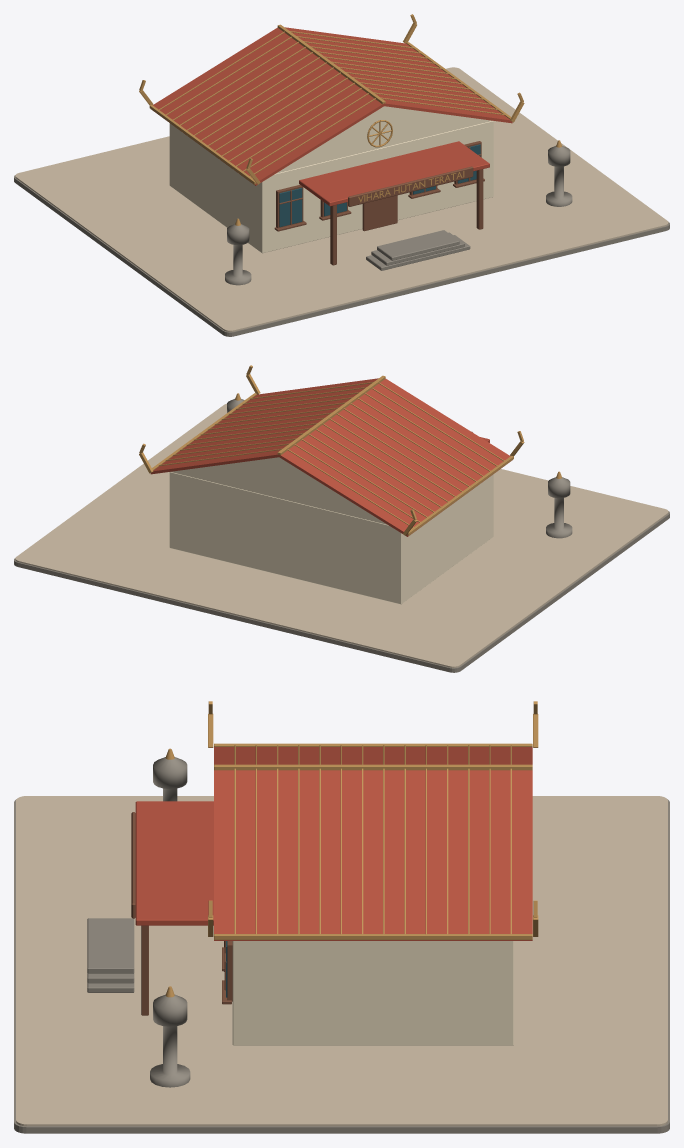
3 renders of one model, top to bottom at view 1: azimuth 30°, elevation 25°; view 2: azimuth 150°, elevation 25°; view 3: azimuth 270°, elevation 25°, orthographic. The views are drawn at different scales.
Visible parts, largest first — view 1: Monastery Garden, Meditation Hall, Front Porch, Entrance Steps, Garden Lanterns, Roof Finials; view 2: Meditation Hall, Monastery Garden, Garden Lanterns, Roof Finials; view 3: Monastery Garden, Meditation Hall, Front Porch, Garden Lanterns, Entrance Steps, Roof Finials.
Part boxes in pixels (x1,y1,x2,y2): Monastery Garden: (14,67,669,336); Meditation Hall: (149,24,512,253); Front Porch: (299,141,489,265); Entrance Steps: (366,230,470,270); Garden Lanterns: (225,140,572,285); Roof Finials: (139,14,524,184); Meditation Hall: (150,375,513,604); Monastery Garden: (14,403,669,672); Garden Lanterns: (227,393,572,538); Roof Finials: (139,365,524,535); Monastery Garden: (14,796,669,1133); Meditation Hall: (214,743,532,1045); Front Porch: (131,801,213,1015); Garden Lanterns: (150,748,190,1087); Entrance Steps: (87,918,134,992); Roof Finials: (208,701,538,936).
Bounding box in the file's own units: 25 × 7.17 × 21.
